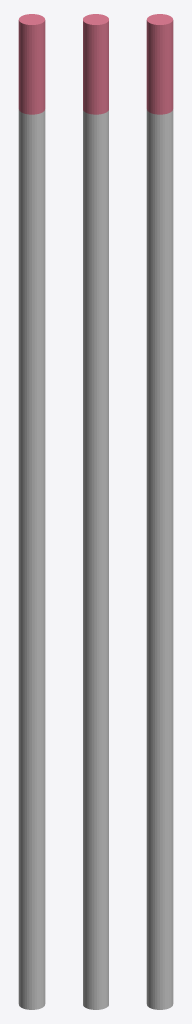
Rendered from maroon1.glb.
3 views of the same model, side by side, from view 1: azimuth 90°, elevation 25°; view 2: azimuth 150°, elevation 25°; view 3: azimuth 270°, elevation 25° (orthographic).
Visible parts, largest first — view 1: Long_Electrode_Body, Long_Electrode_Tip; view 2: Long_Electrode_Body, Long_Electrode_Tip; view 3: Long_Electrode_Body, Long_Electrode_Tip.
Boxes of the visible parts, <box> form: Long_Electrode_Body: <box>18,109,45,1009</box>; Long_Electrode_Tip: <box>18,14,45,114</box>; Long_Electrode_Body: <box>83,110,108,1009</box>; Long_Electrode_Tip: <box>83,14,108,114</box>; Long_Electrode_Body: <box>146,109,173,1009</box>; Long_Electrode_Tip: <box>146,14,173,114</box>.
Bounding box in the file's own units: 0.4 × 16.5 × 0.4.
